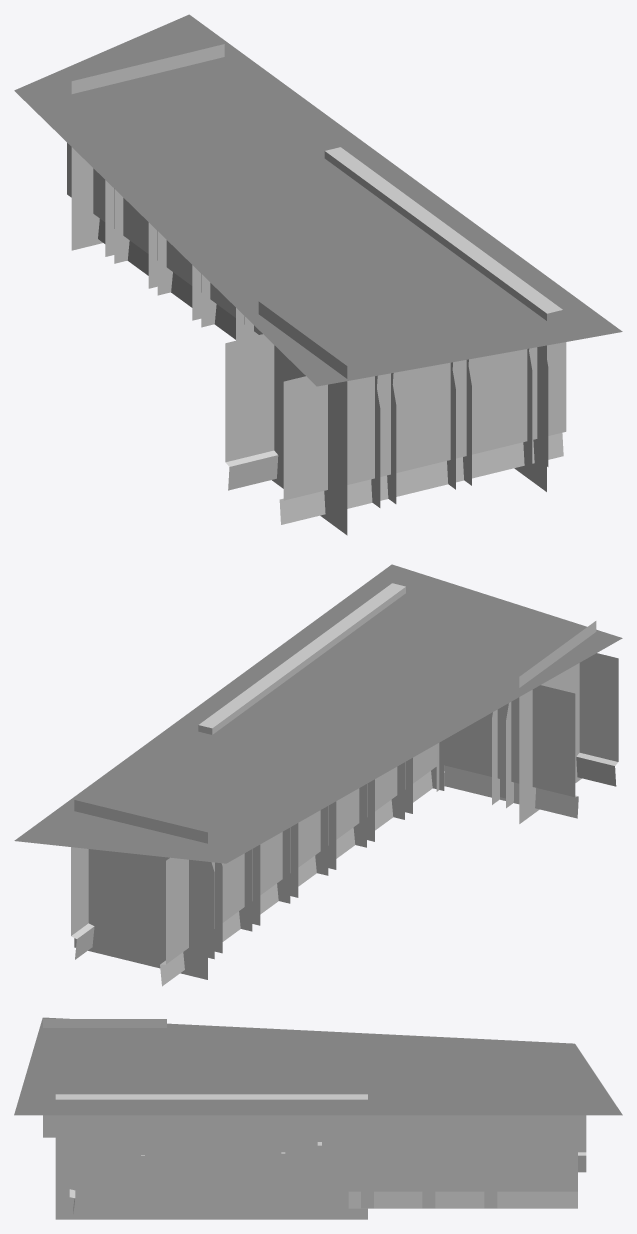
Rendered from TutorialCollider (1).fbx.
3 renders of one model, top to bottom at view 1: azimuth 30°, elevation 25°; view 2: azimuth 150°, elevation 25°; view 3: azimuth 270°, elevation 25°, orthographic. The views are drawn at different scales.
Parts seen in each view (by area): view 1: Ceiling, ColiderYongMesh.003, ColiderYongMesh.004, ColiderYongMesh.019, ColiderYongMesh.018, ColiderYongMesh.001, ColiderYongMesh.037, ColiderYongMesh.013, ColiderYongMesh.014, ColiderYongMesh.007, ColiderYongMesh.008, ColiderYongMesh.009 (+1 smaller); view 2: Ceiling, ColiderYongMesh.037, ColiderYongMesh.001, ColiderYongMesh.004, ColiderYongMesh.003, ColiderYongMesh.019, ColiderYongMesh.018, ColiderYongMesh.002, ColiderYongMesh.008, ColiderYongMesh.007, ColiderYongMesh.016, ColiderYongMesh.009 (+3 smaller); view 3: Ceiling, ColiderYongMesh.019, ColiderYongMesh.002, ColiderYongMesh.018, ColiderYongMesh.015, ColiderYongMesh.001.
Boxes of the visible parts, x1,y1,x2,y2 form: Ceiling: [14, 14, 622, 386]; ColiderYongMesh.003: [279, 342, 566, 524]; ColiderYongMesh.004: [225, 334, 278, 490]; ColiderYongMesh.019: [324, 147, 562, 491]; ColiderYongMesh.018: [258, 301, 347, 535]; ColiderYongMesh.001: [67, 143, 258, 339]; ColiderYongMesh.037: [71, 44, 224, 250]; ColiderYongMesh.013: [371, 373, 396, 507]; ColiderYongMesh.014: [447, 359, 471, 489]; ColiderYongMesh.007: [105, 180, 129, 263]; ColiderYongMesh.008: [148, 222, 172, 295]; ColiderYongMesh.009: [192, 265, 216, 327]; Ceiling: [14, 564, 622, 863]; ColiderYongMesh.037: [74, 800, 207, 979]; ColiderYongMesh.001: [160, 744, 436, 986]; ColiderYongMesh.004: [444, 685, 578, 818]; ColiderYongMesh.003: [576, 653, 618, 786]; ColiderYongMesh.019: [198, 583, 405, 734]; ColiderYongMesh.018: [519, 621, 596, 823]; ColiderYongMesh.002: [71, 847, 94, 959]; ColiderYongMesh.008: [239, 845, 260, 931]; ColiderYongMesh.007: [208, 862, 222, 959]; ColiderYongMesh.016: [492, 702, 513, 808]; ColiderYongMesh.009: [277, 823, 298, 903]; Ceiling: [14, 1017, 622, 1115]; ColiderYongMesh.019: [55, 1094, 367, 1219]; ColiderYongMesh.002: [348, 1115, 577, 1208]; ColiderYongMesh.018: [43, 1019, 166, 1137]; ColiderYongMesh.015: [62, 1115, 79, 1207]; ColiderYongMesh.001: [578, 1115, 586, 1172].
Bounding box in the file's own units: 3819 × 2210 × 9436.
